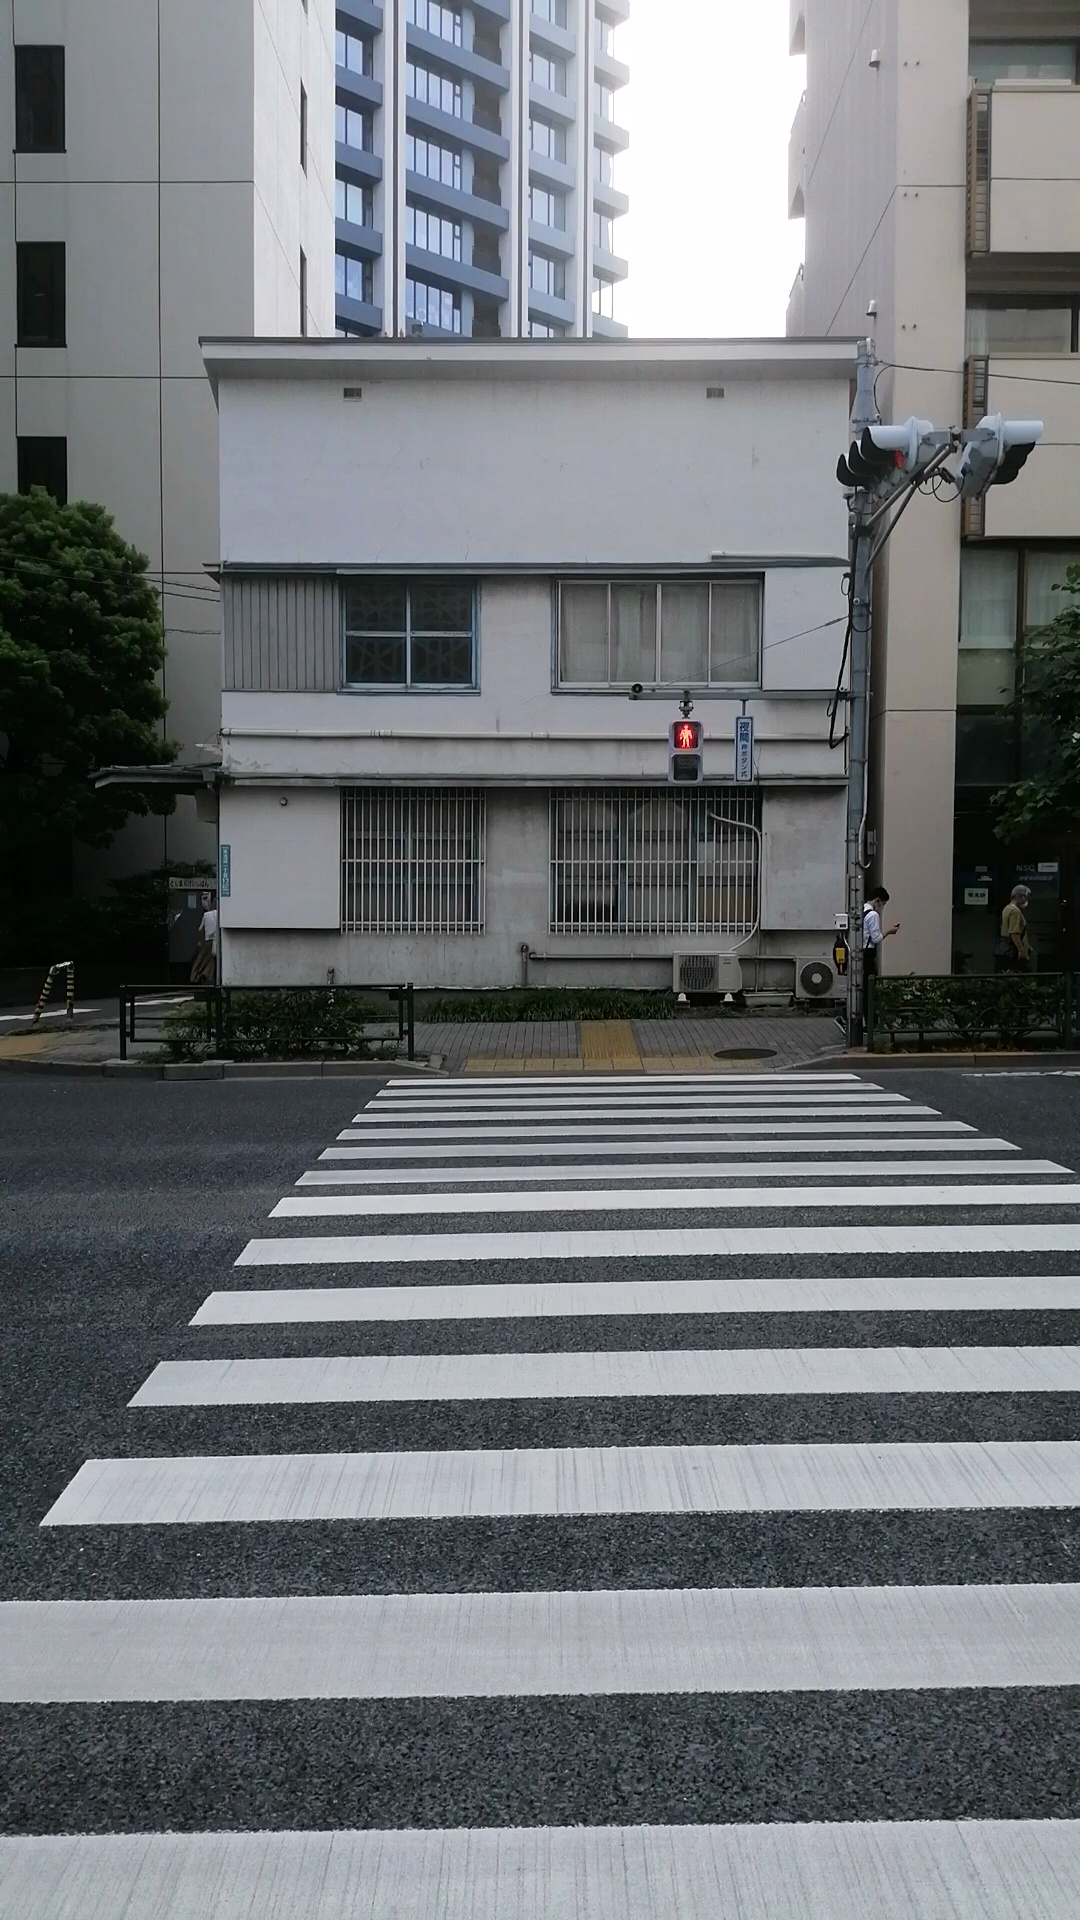red: (666, 717, 704, 785)
